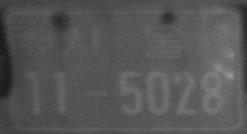-: (84, 87, 107, 100)
0: (144, 69, 170, 117)
1: (21, 70, 47, 115), (48, 70, 74, 114)
2: (172, 69, 198, 116)
5: (118, 70, 143, 117)
8: (199, 69, 223, 117)
서울_D: (62, 22, 183, 59)
영: (21, 23, 57, 59)
